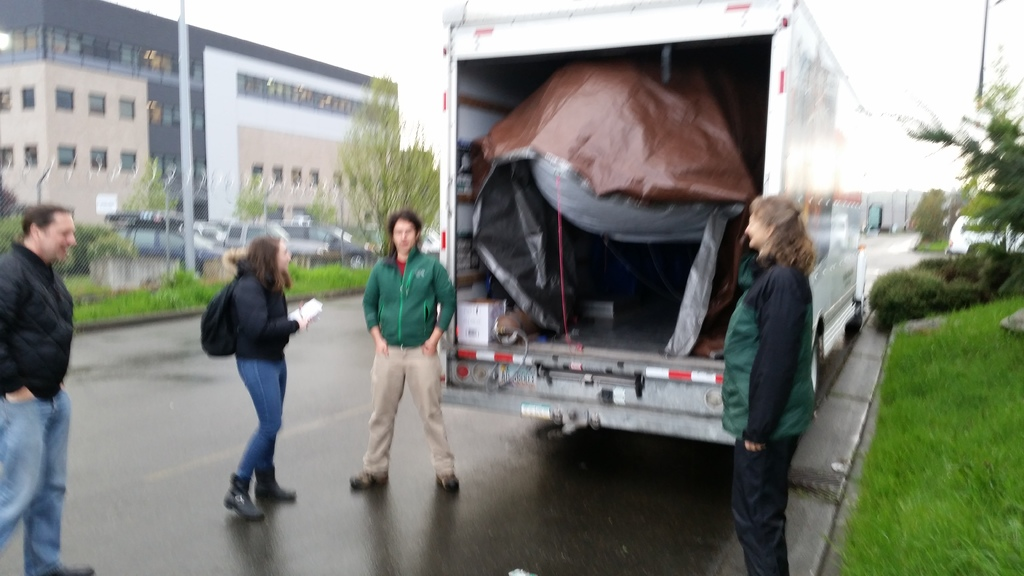Car: (107, 209, 387, 270)
